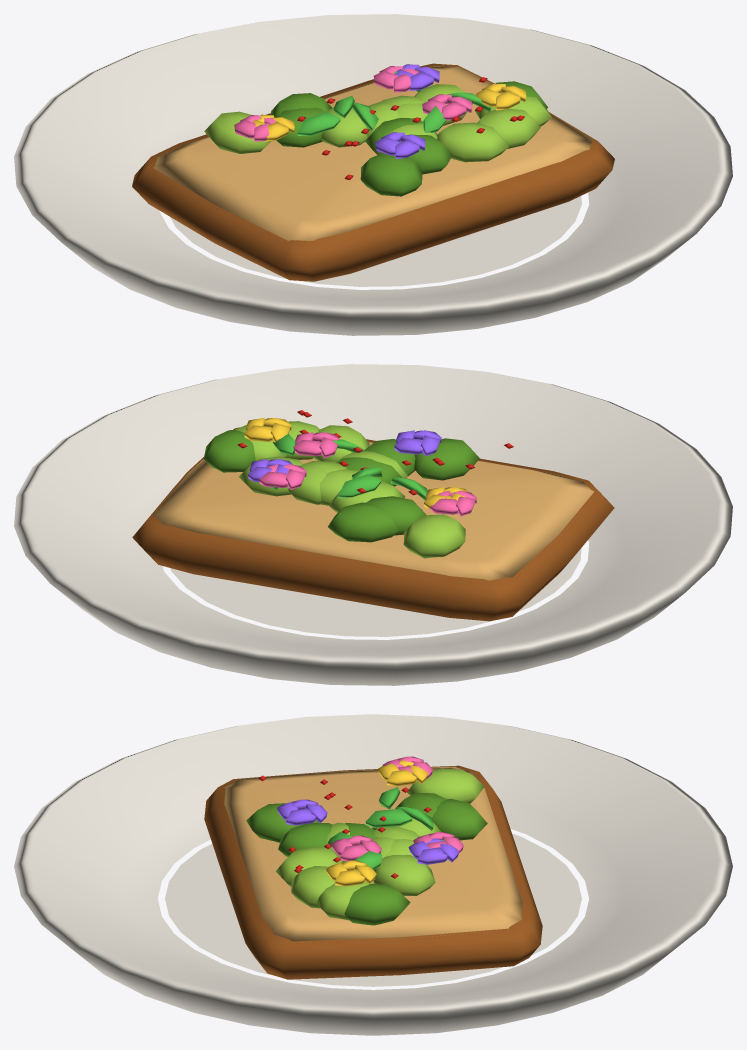
3 views of the same model, one above another, from view 1: azimuth 30°, elevation 25°; view 2: azimuth 150°, elevation 25°; view 3: azimuth 270°, elevation 25° (orthographic).
Parts seen in each view (by area): view 1: plate, toast, crust, avocado (×11), plate_well, microgreens; view 2: plate, toast, crust, avocado (×12), plate_well, microgreens; view 3: plate, toast, crust, avocado (×10), plate_well, microgreens.
Part boxes in pixels (<box>): plate: <box>14,14,732,335</box>; toast: <box>153,66,593,240</box>; crust: <box>132,63,614,281</box>; avocado (×11): <box>204,84,551,196</box>; plate_well: <box>170,196,581,286</box>; microgreens: <box>297,112,340,136</box>; plate: <box>14,364,732,685</box>; toast: <box>153,442,593,580</box>; crust: <box>132,427,614,621</box>; avocado (×12): <box>204,425,479,558</box>; plate_well: <box>170,548,581,636</box>; microgreens: <box>338,474,380,498</box>; plate: <box>14,714,732,1035</box>; toast: <box>224,766,522,943</box>; crust: <box>204,765,542,979</box>; avocado (×10): <box>246,768,487,925</box>; plate_well: <box>165,833,581,986</box>; microgreens: <box>365,808,412,828</box>.
Bounding box in the file's own units: 0.2 × 0.0353 × 0.2.
